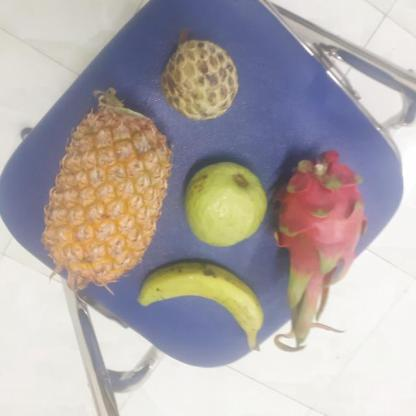annona: (156, 40, 239, 122)
banana: (135, 261, 261, 341)
guava: (180, 162, 268, 247)
pineapple: (37, 99, 172, 285)
pitaya: (267, 155, 367, 303)
